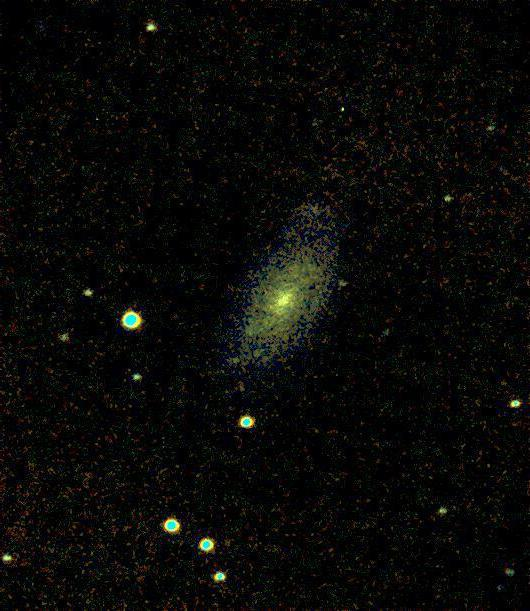star: (253, 291, 283, 321)
